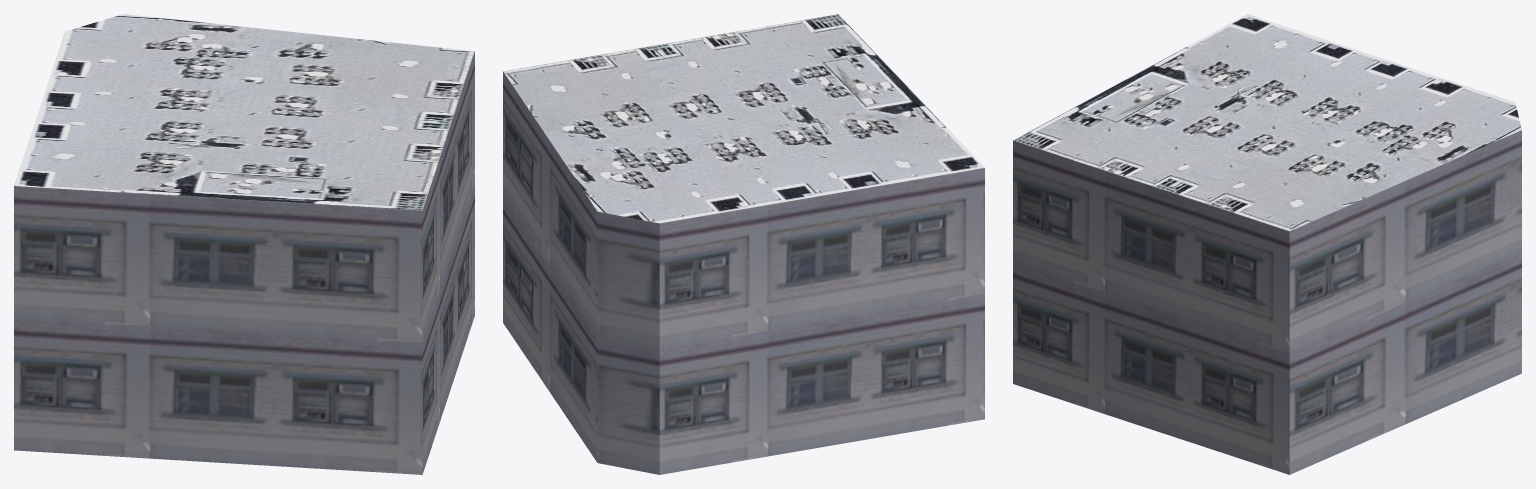
File: ResTex__2119.fbx
The picture shows the model from 3 angles, left to right: view 1: azimuth 30°, elevation 25°; view 2: azimuth 150°, elevation 25°; view 3: azimuth 270°, elevation 25°; orthographic projection. The views are drawn at different scales.
Parts seen in each view (by area): view 1: CityEngineMaterial_1_m, CityEngineMaterial_8_m; view 2: CityEngineMaterial_1_m, CityEngineMaterial_8_m; view 3: CityEngineMaterial_1_m, CityEngineMaterial_8_m.
Part boxes in pixels (x1=…): CityEngineMaterial_1_m: x1=14, y1=52, x2=474, y2=474; CityEngineMaterial_8_m: x1=14, y1=14, x2=474, y2=210; CityEngineMaterial_1_m: x1=503, y1=72, x2=984, y2=474; CityEngineMaterial_8_m: x1=503, y1=14, x2=984, y2=223; CityEngineMaterial_1_m: x1=1013, y1=130, x2=1521, y2=474; CityEngineMaterial_8_m: x1=1013, y1=14, x2=1521, y2=231.
Bounding box in the file's own units: 11.49 × 6 × 11.36.
Materials: 2 (2 with a texture image).
